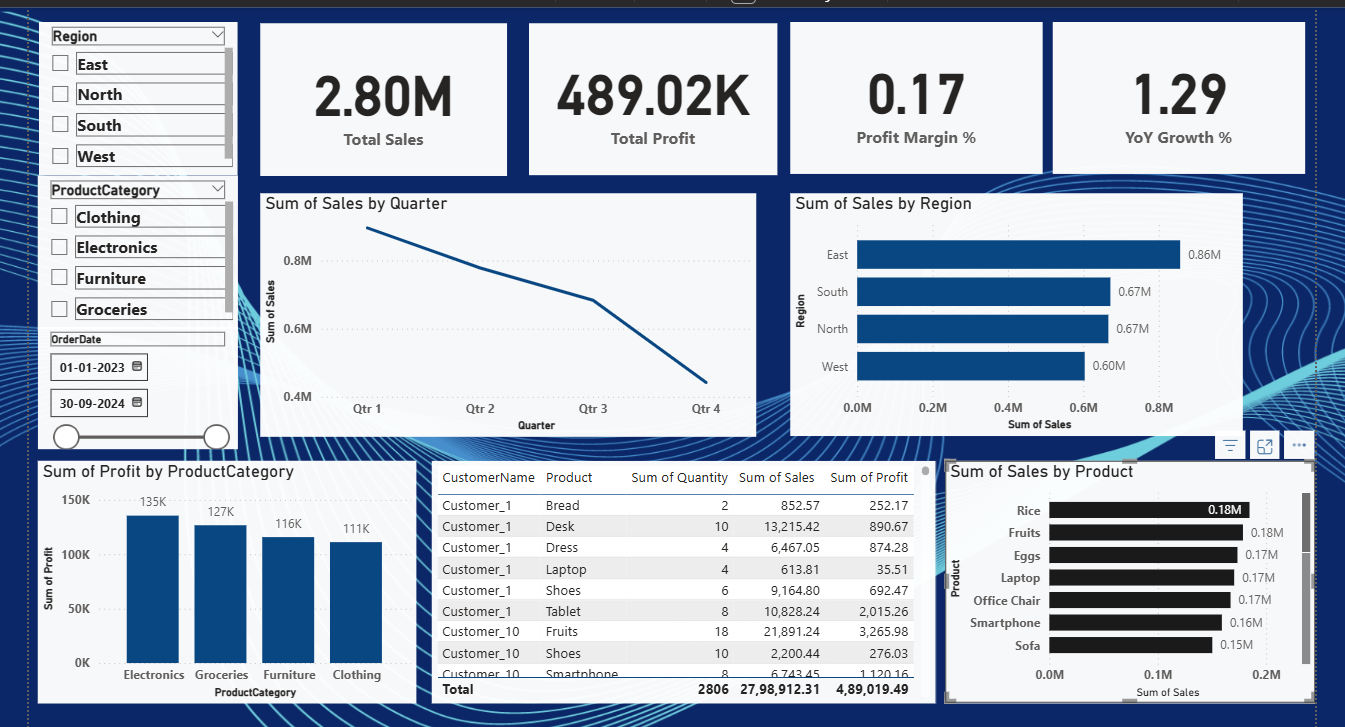

The page's visual inventory and layout, read from the dashboard file:
{"tool":"powerbi","page":{"name":"Page 1","canvas":[1280,720],"ordinal":0},"visuals":[{"type":"card","fields":{"Values":["mock_sales_data.Total Sales"]},"box":[230.5,16.5,245.6,152.3],"z":0},{"type":"card","fields":{"Values":["mock_sales_data.Total Profit"]},"box":[498.1,16.5,247,150.9],"z":1},{"type":"card","fields":{"Values":["mock_sales_data.Profit Margin %"]},"box":[757.5,15.1,251.1,150.9],"z":2},{"type":"slicer","fields":{"Values":["mock_sales_data.Region"]},"box":[10,14.9,197.8,153],"z":4},{"type":"slicer","fields":{"Values":["mock_sales_data.ProductCategory"]},"box":[8.7,167.9,199,153],"z":5},{"type":"slicer","fields":{"Values":["mock_sales_data.OrderDate"]},"box":[8.7,318.5,199,121.9],"z":6},{"type":"card","fields":{"Values":["mock_sales_data.YoY Growth %"]},"box":[1018.5,15,251,151],"z":7},{"type":"lineChart","fields":{"Y":["Sum(mock_sales_data.Sales)"],"Category":["mock_sales_data.OrderDate.Variation.Date Hierarchy.Quarter"]},"box":[230.1,185.3,493.9,242.6],"z":8},{"type":"clusteredBarChart","fields":{"Category":["mock_sales_data.Region"],"Y":["Sum(mock_sales_data.Sales)"]},"box":[757.6,185.3,450.3,241.3],"z":9},{"type":"columnChart","fields":{"Category":["mock_sales_data.ProductCategory"],"Y":["Sum(mock_sales_data.Profit)"]},"box":[8.7,451.6,376.9,241.3],"z":10},{"type":"barChart","fields":{"Category":["mock_sales_data.Product"],"Y":["Sum(mock_sales_data.Sales)"]},"box":[911.8,451.6,368.2,241.3],"z":11},{"type":"tableEx","fields":{"Values":["mock_sales_data.CustomerName","mock_sales_data.Product","Sum(mock_sales_data.Quantity)","Sum(mock_sales_data.Sales)","Sum(mock_sales_data.Profit)"]},"box":[400.6,451.6,501.3,241.3],"z":12}]}

Visuals, with their boxes in screenshot pixels (x1, y1, x2, y2):
card - mock_sales_data.Total Sales: <box>258,23,503,175</box>
card - mock_sales_data.Total Profit: <box>525,23,772,174</box>
card - mock_sales_data.Profit Margin %: <box>784,22,1034,173</box>
slicer - mock_sales_data.Region: <box>38,22,235,175</box>
slicer - mock_sales_data.ProductCategory: <box>37,175,235,327</box>
slicer - mock_sales_data.OrderDate: <box>37,325,235,446</box>
card - mock_sales_data.YoY Growth %: <box>1044,22,1295,173</box>
lineChart - Sum(mock_sales_data.Sales) x mock_sales_data.OrderDate.Variation.Date Hierarchy.Quarter: <box>258,192,750,434</box>
clusteredBarChart - mock_sales_data.Region x Sum(mock_sales_data.Sales): <box>784,192,1233,433</box>
columnChart - mock_sales_data.ProductCategory x Sum(mock_sales_data.Profit): <box>37,458,413,698</box>
barChart - mock_sales_data.Product x Sum(mock_sales_data.Sales): <box>938,458,1305,698</box>
tableEx - mock_sales_data.CustomerName x mock_sales_data.Product: <box>428,458,928,698</box>
